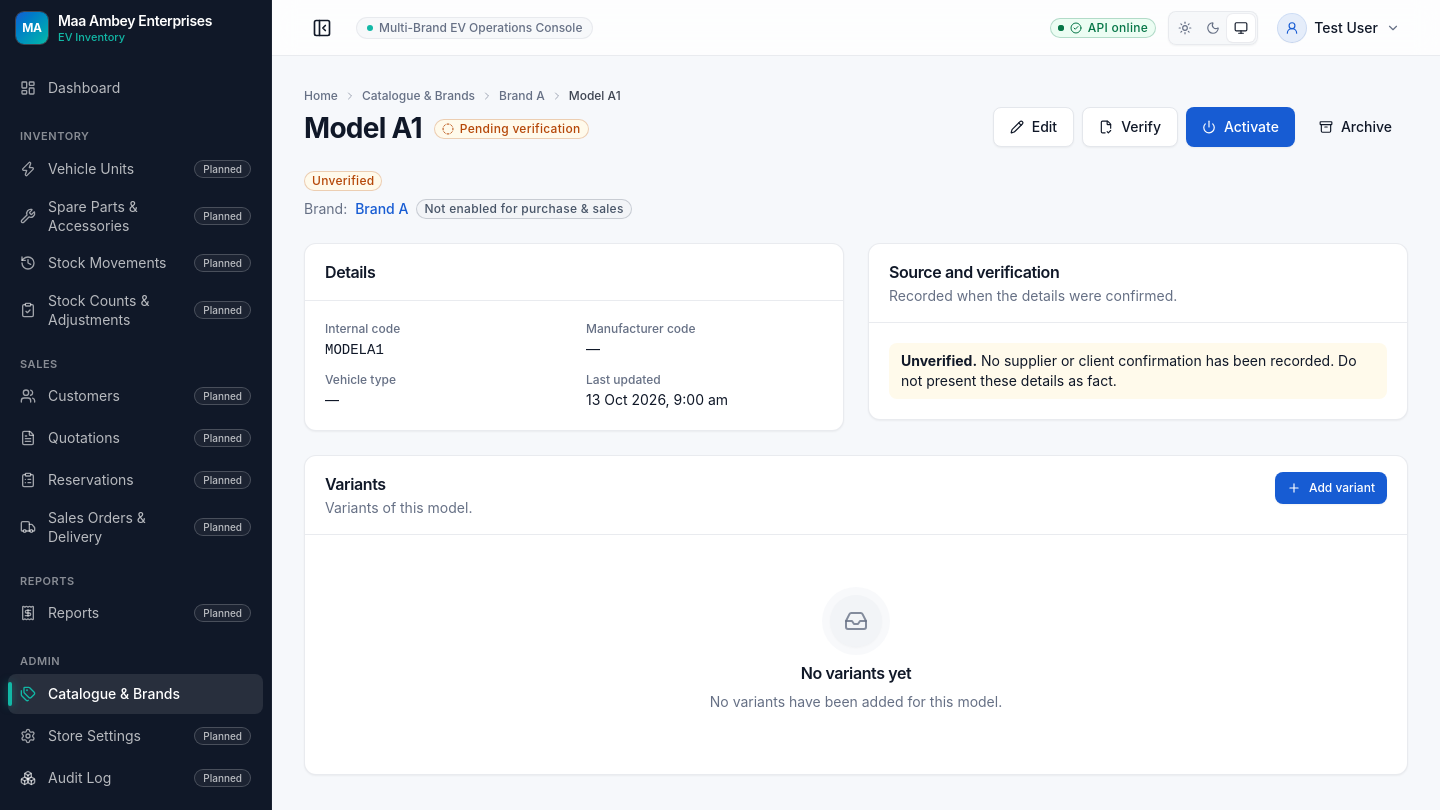
Test: model lifecycle actions › offers a reload when someone else changed the record
This screenshot has width=1440, height=810.
Click the button "Activate": click(1240, 127) [1186,107,1295,147]
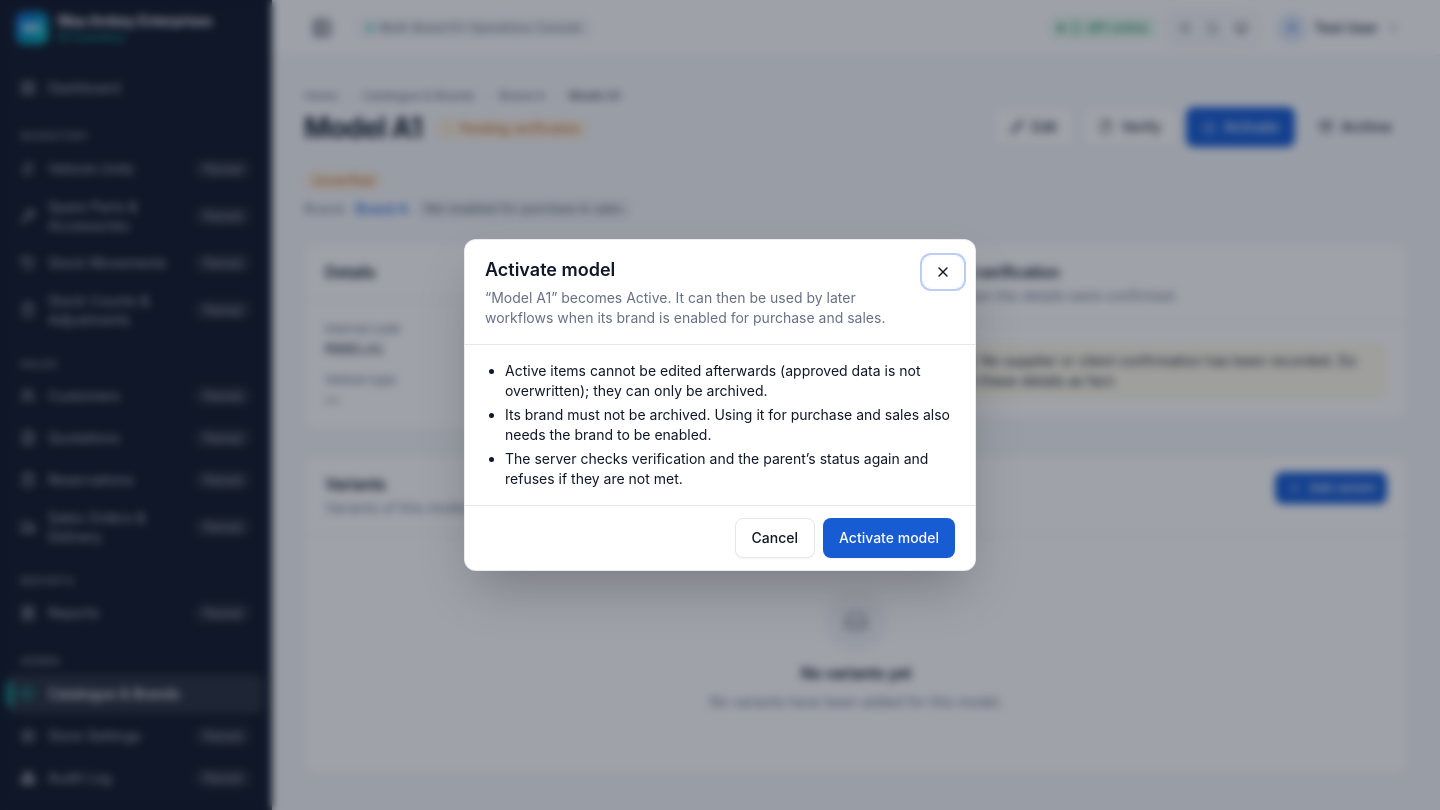
Click the button "Activate model": click(889, 538) [823,518,955,558]
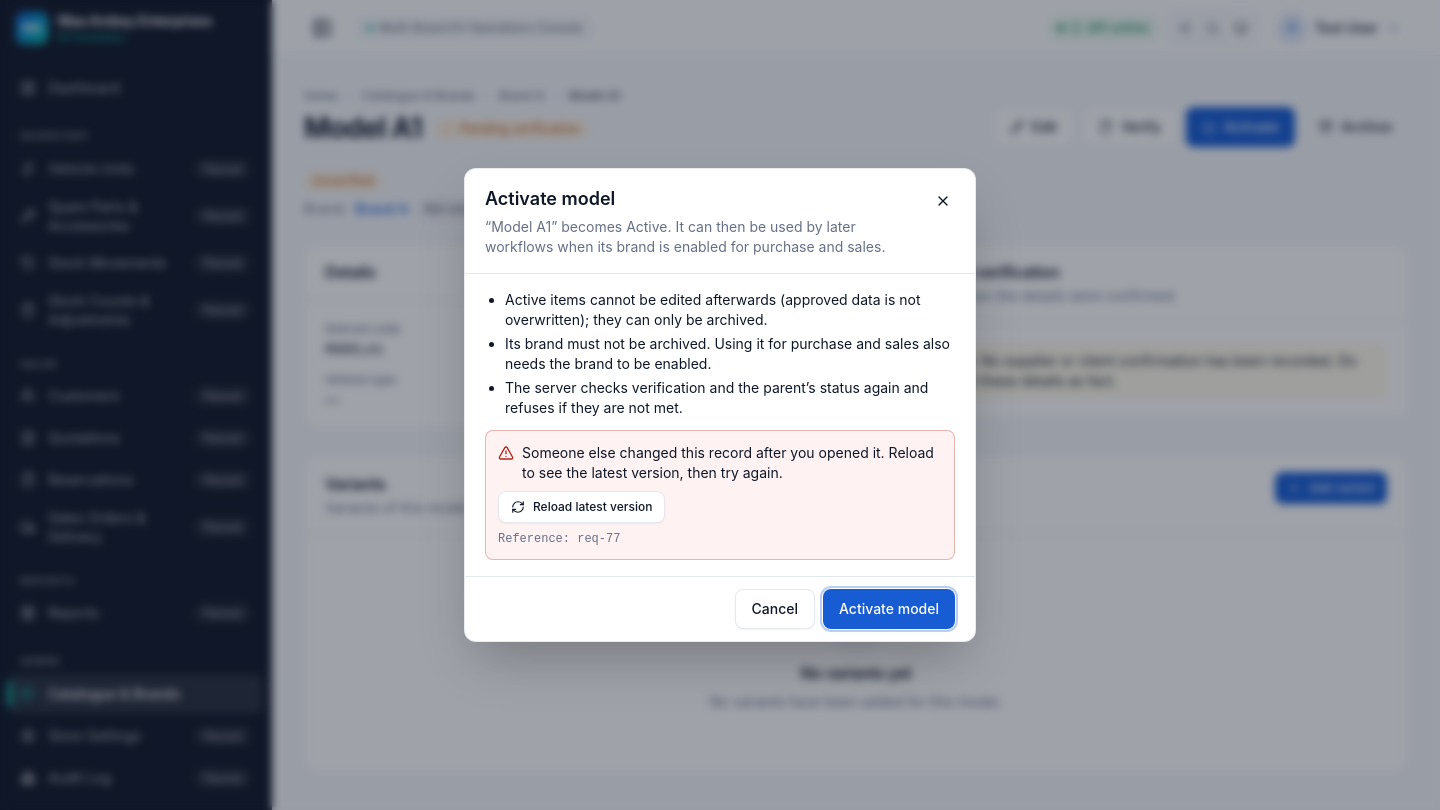
Expected: the text "Someone else changed this record" is shown, [522,444,934,481]
Click the button "Reload latest version": click(582, 507) [498,491,665,523]
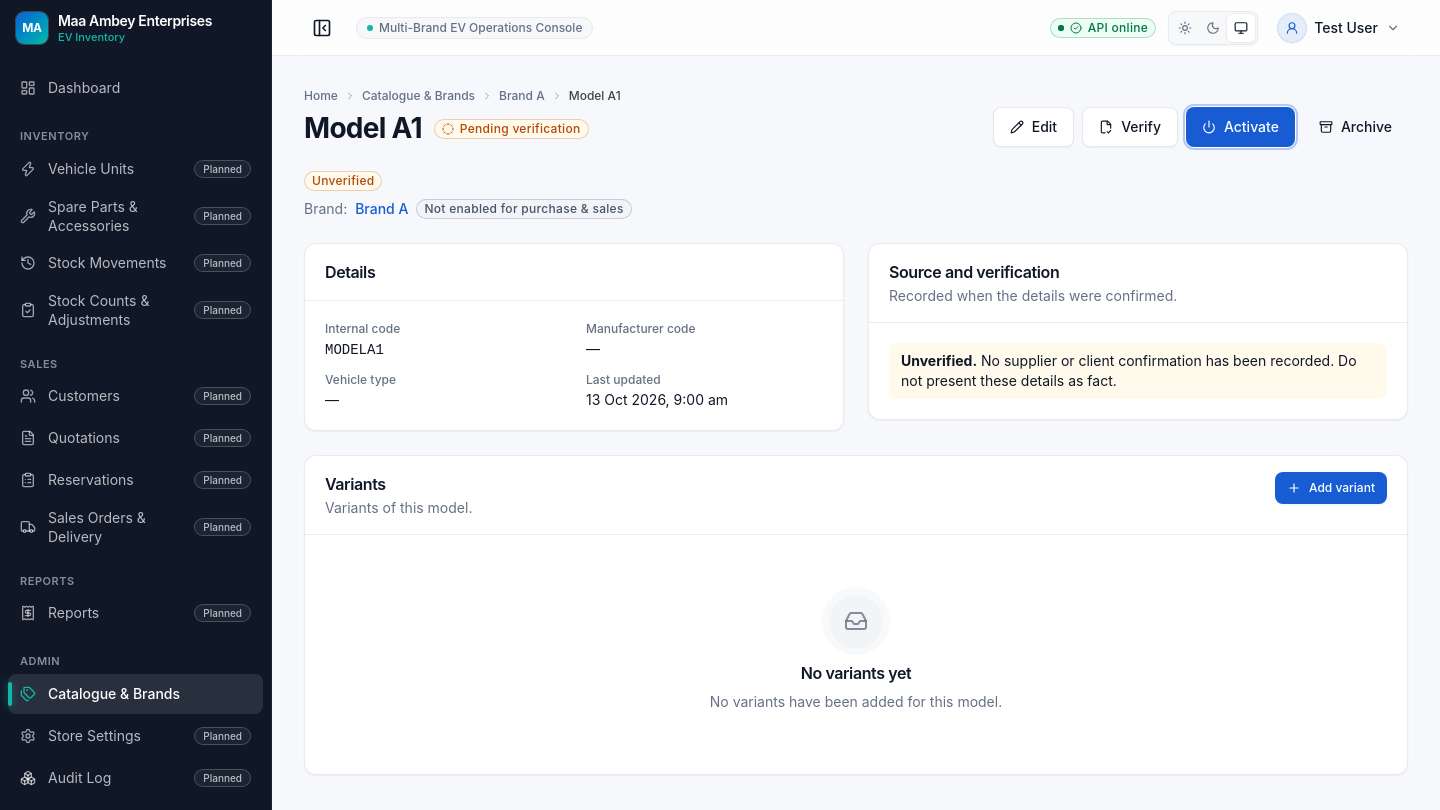
Expected: the dialog is gone
